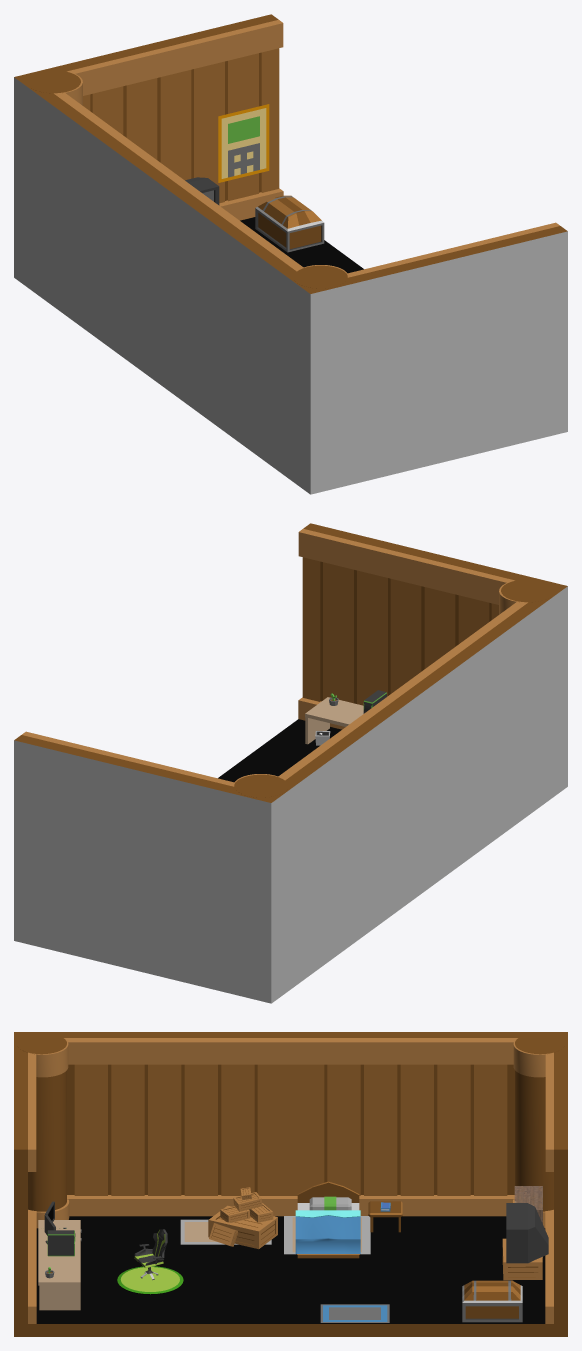
File: room2.glb
3 views of the same model, one above another, from view 1: azimuth 30°, elevation 25°; view 2: azimuth 150°, elevation 25°; view 3: azimuth 270°, elevation 25° (orthographic). The views are drawn at different scales.
Parts seen in each view (by area): view 1: Cube_0.001; view 2: Cube_0.001; view 3: Cube_0.001, Cube_0.003.
Part boxes in pixels (bbox=[...]): Cube_0.001: bbox=[14, 14, 567, 494]; Cube_0.001: bbox=[14, 523, 567, 1003]; Cube_0.001: bbox=[14, 1032, 567, 1336]; Cube_0.003: bbox=[320, 1304, 389, 1322].
Bounding box in the file's own units: 2.51 × 1.87 × 5.
5 materials, 5 textured.
